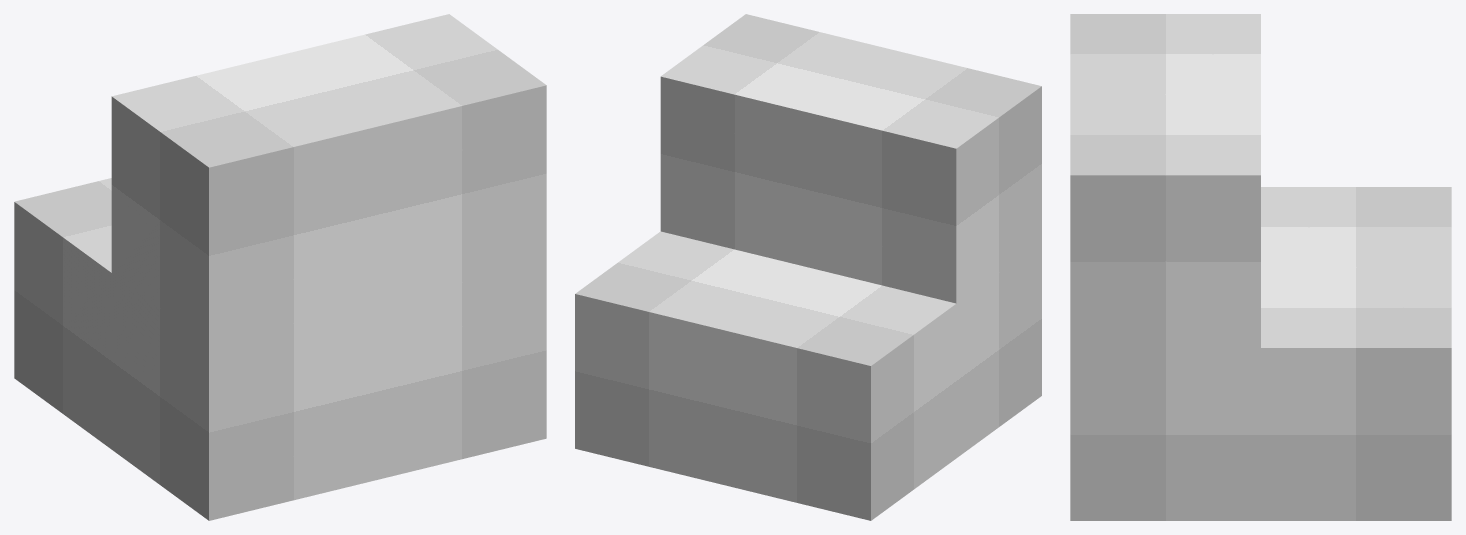
File: MeshStair (UP)(Z-).glb
3 renders of one model, left to right at view 1: azimuth 30°, elevation 25°; view 2: azimuth 150°, elevation 25°; view 3: azimuth 270°, elevation 25°, orthographic. The views are drawn at different scales.
Visible parts, largest first — view 1: Cube; view 2: Cube; view 3: Cube.
Part boxes in pixels (bbox=[...]): Cube: bbox=[14, 14, 546, 520]; Cube: bbox=[575, 14, 1041, 520]; Cube: bbox=[1070, 14, 1451, 520].
Size of the model in its own units: 1 by 1 by 1.
Materials: 1 (1 with a texture image).
